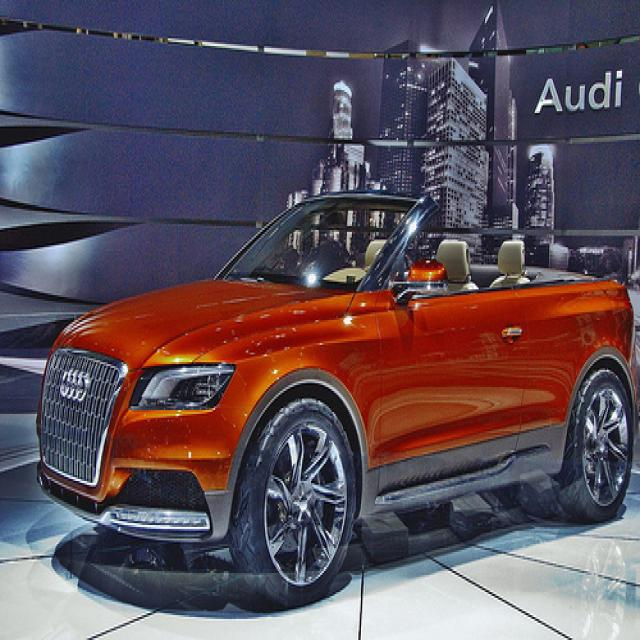Car: (39, 189, 638, 605)
